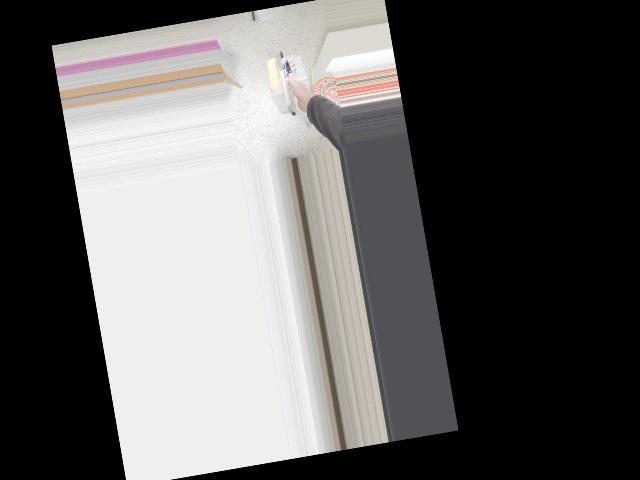cheese: (259, 44, 335, 123)
